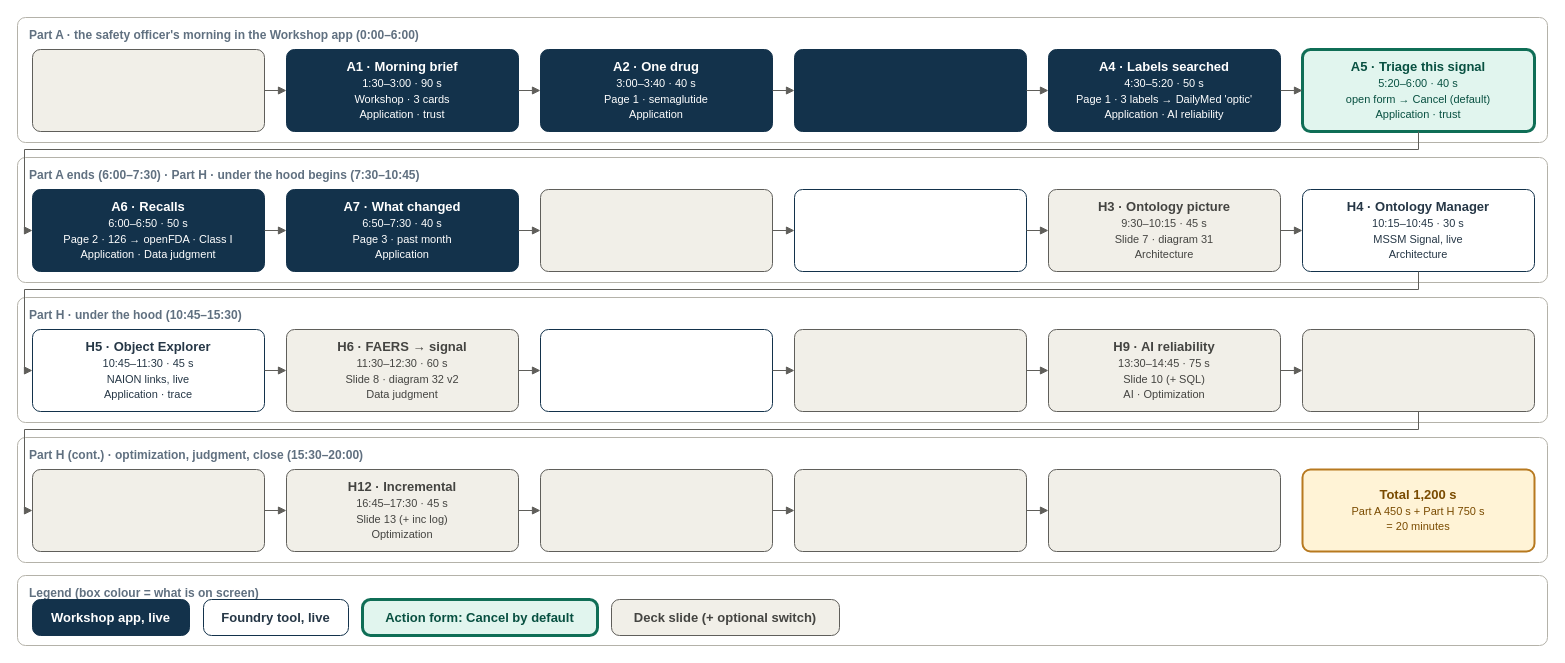
The diagram is 1565 pixels wide and 663 high, and some of its shapes have lost their labels. The shapes that lost their labels are listed below. From the top down, each one's centre as x and y in pixels, then its label:
At pixel 148 90: "A0 · Her 3 questions 0:00–1:30 · 90 s Deck slides 1–2 Communication".
At pixel 910 90: "A3 · Why NAION 3:40–4:30 · 50 s Page 1 · evidence panel Application (trace)".
At pixel 656 230: "H1 · Architecture 7:30–8:30 · 60 s Slide 6 · diagram 38 Architecture".
At pixel 910 230: "H2 · Data Lineage 8:30–9:30 · 60 s Foundry lineage, live Architecture".
At pixel 656 370: "H7 · Signal code 12:30–12:50 · 20 s Code Repo (optional) Architecture".
At pixel 910 370: "H8 · Review queue 12:50–13:30 · 40 s Slide 9 Data judgment".
At pixel 1418 370: "H10 · Monitoring 14:45–15:30 · 45 s Slide 11 (+ SQL) AI · Data judgment".
At pixel 148 510: "H11 · Optimization 15:30–16:45 · 75 s Slide 12 · O1-O3 Optimization".
At pixel 656 510: "H13 · Data judgment 17:30–19:00 · 90 s Slide 14 Data judgment".
At pixel 910 510: "H14 · Another month 19:00–19:40 · 40 s Slide 15 Communication".
At pixel 1164 510: "H15 · Take away 19:40–20:00 · 20 s Slide 16 Communication".
